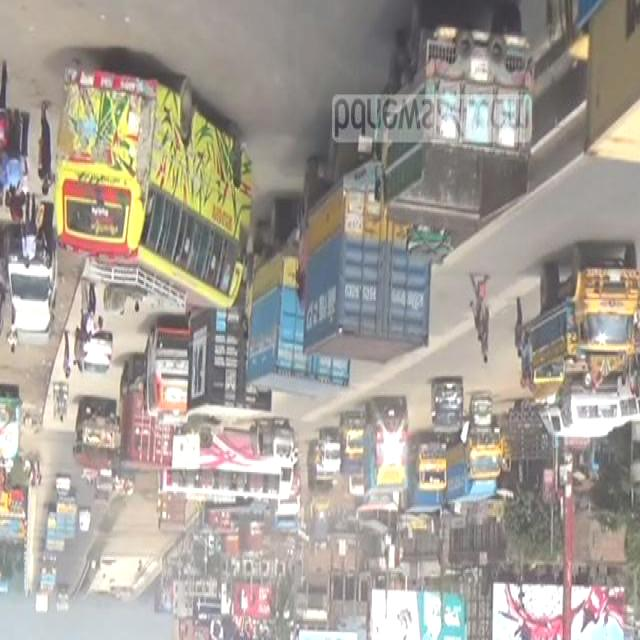black: (431, 380, 464, 434)
silver: (567, 376, 636, 430), (72, 335, 115, 374)
white: (5, 234, 60, 330)
